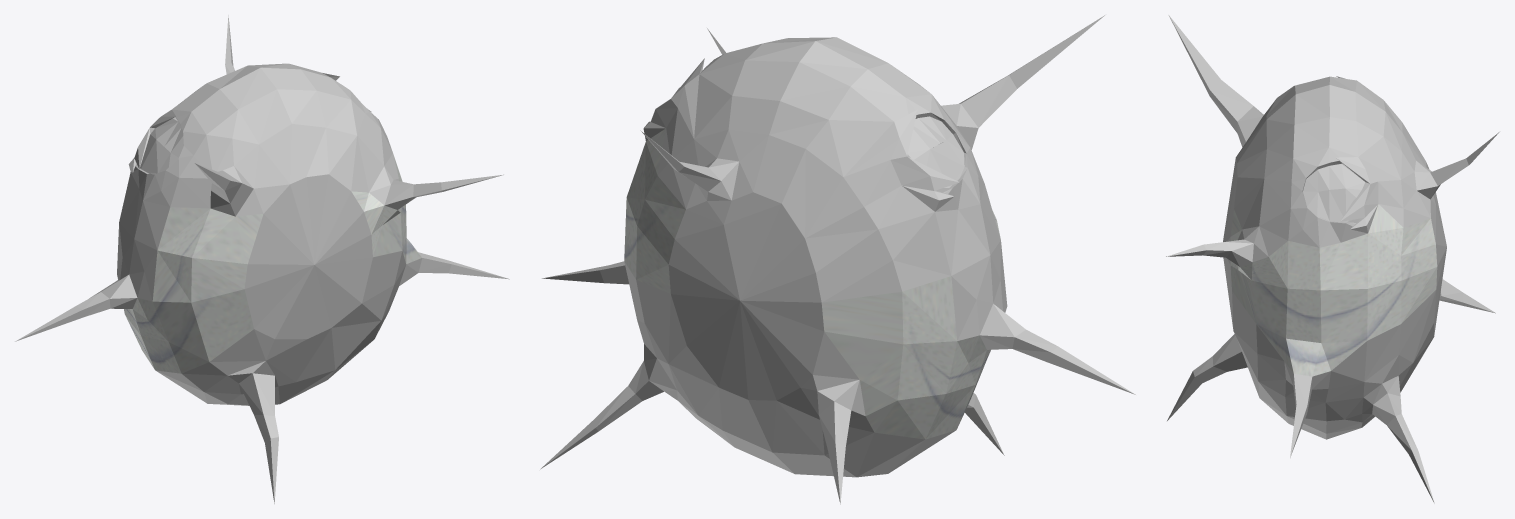
File: BR_Silcoon-Shiny01.obj
The picture shows the model from 3 angles, left to right: view 1: azimuth 30°, elevation 25°; view 2: azimuth 150°, elevation 25°; view 3: azimuth 270°, elevation 25°; orthographic projection. The views are drawn at different scales.
Visible parts, largest first — view 1: karasalis; view 2: karasalis; view 3: karasalis.
Part boxes in pixels (box(x1,y1,x2,y2)): karasalis: box(15, 15, 509, 503); karasalis: box(540, 15, 1135, 504); karasalis: box(1166, 15, 1499, 503).
Size of the model in its own units: 11.09 by 8.04 by 6.59.
